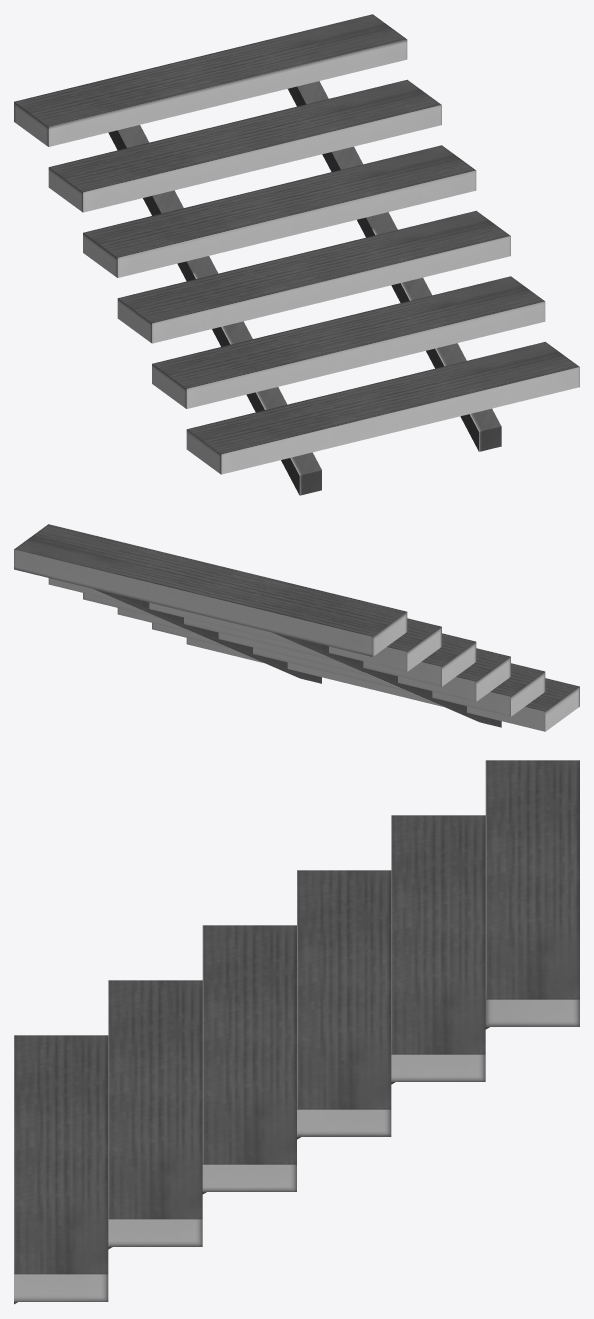
The model's file is StairsFlt2x2x1_5Open.gltf.
3 views of the same model, one above another, from view 1: azimuth 30°, elevation 25°; view 2: azimuth 150°, elevation 25°; view 3: azimuth 270°, elevation 25° (orthographic). The views are drawn at different scales.
Parts seen in each view (by area): view 1: StairsFlt2x2x1_5OpenShape; view 2: StairsFlt2x2x1_5OpenShape; view 3: StairsFlt2x2x1_5OpenShape.
Part boxes in pixels (left/top/right/bottom): StairsFlt2x2x1_5OpenShape: left=14, top=14, right=579, bottom=495; StairsFlt2x2x1_5OpenShape: left=14, top=524, right=579, bottom=731; StairsFlt2x2x1_5OpenShape: left=14, top=760, right=579, bottom=1304.
Bounding box in the file's own units: 2 × 1.39 × 2.
